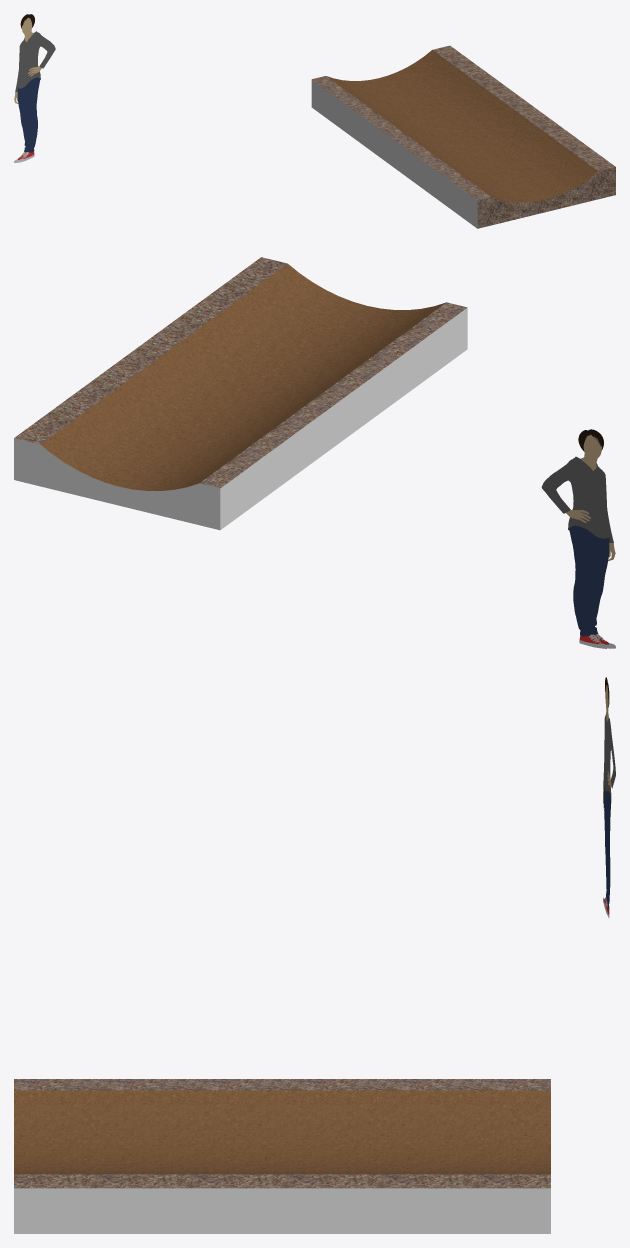
The model's file is wire.dae.
3 views of the same model, one above another, from view 1: azimuth 30°, elevation 25°; view 2: azimuth 150°, elevation 25°; view 3: azimuth 270°, elevation 25° (orthographic). The views are drawn at different scales.
Parts seen in each view (by area): view 1: SketchUp (×3), Stacy (×2); view 2: SketchUp (×3), Stacy (×2); view 3: SketchUp (×3).
Boxes of the visible parts, box(x1,y1,x2,y2) form: SketchUp (×3): box(311, 45, 615, 228); Stacy (×2): box(15, 31, 55, 152); SketchUp (×3): box(14, 257, 467, 530); Stacy (×2): box(541, 456, 613, 636); SketchUp (×3): box(14, 1079, 550, 1233).
Size of the model in its own units: 197 by 151 by 65.57.
